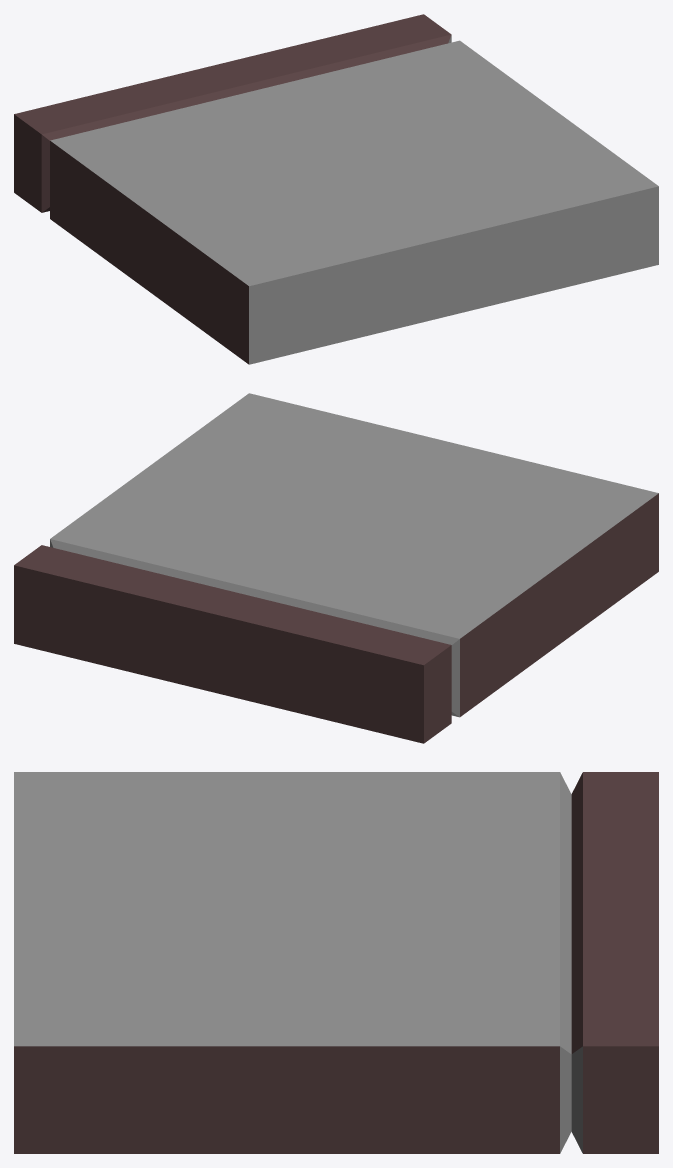
The model's file is CD_case_02.FBX.
The picture shows the model from 3 angles, top to bottom: view 1: azimuth 30°, elevation 25°; view 2: azimuth 150°, elevation 25°; view 3: azimuth 270°, elevation 25°; orthographic projection. The views are drawn at different scales.
Parts seen in each view (by area): view 1: Box020; view 2: Box020; view 3: Box020.
Boxes of the visible parts, left/top/right/bottom form: Box020: left=14, top=14, right=658, bottom=364; Box020: left=14, top=393, right=658, bottom=743; Box020: left=14, top=772, right=658, bottom=1153.
Bounding box in the file's own units: 14.22 × 2.6 × 14.13.
